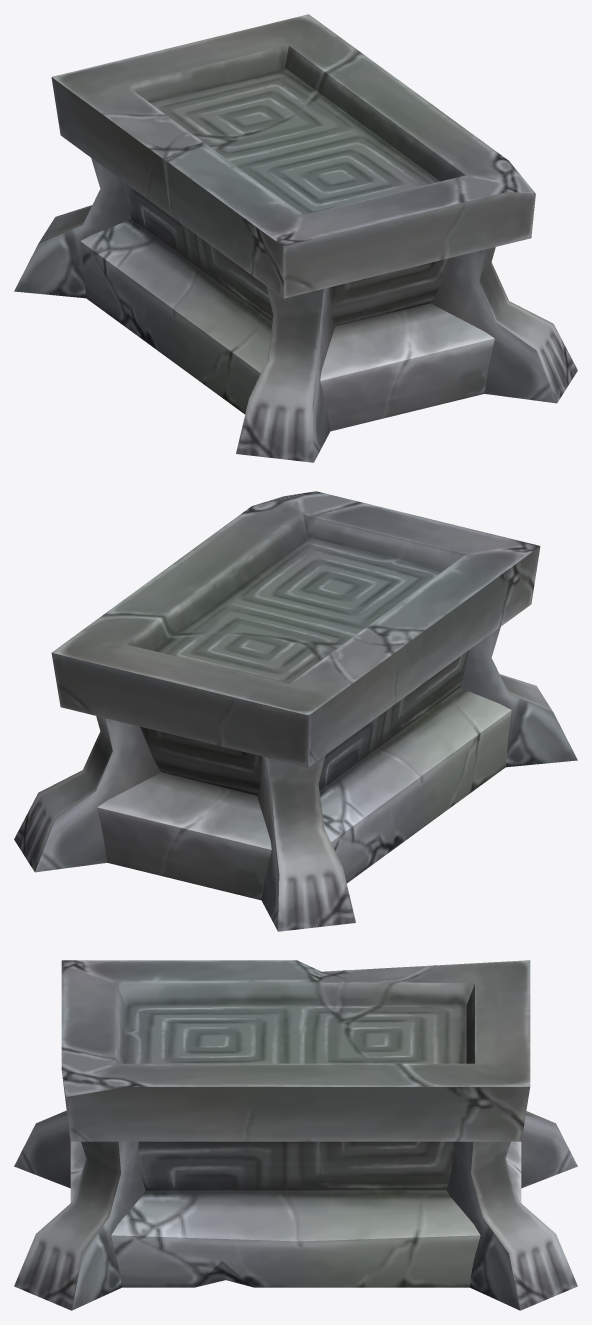
The model's file is crypt_02.FBX.
3 renders of one model, top to bottom at view 1: azimuth 30°, elevation 25°; view 2: azimuth 150°, elevation 25°; view 3: azimuth 270°, elevation 25°, orthographic.
Parts seen in each view (by area): view 1: crypt_02; view 2: crypt_02; view 3: crypt_02.
Part boxes in pixels (x1,y1,x2,y2): crypt_02: [14, 14, 577, 462]; crypt_02: [14, 491, 577, 931]; crypt_02: [14, 960, 577, 1310].
Size of the model in its own units: 64.59 by 36.2 by 91.24.
